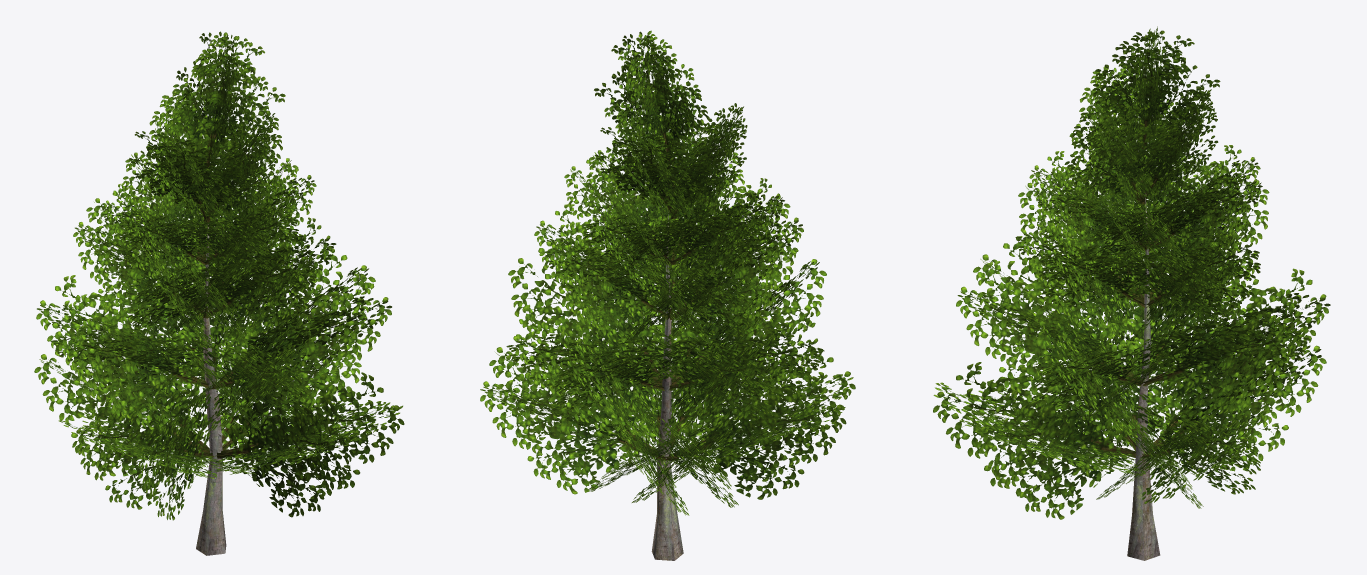
File: tree_f.FBX
3 views of the same model, side by side, from view 1: azimuth 30°, elevation 25°; view 2: azimuth 150°, elevation 25°; view 3: azimuth 270°, elevation 25° (orthographic). The views are drawn at different scales.
Visible parts, largest first — view 1: tree_f; view 2: tree_f; view 3: tree_f.
Part boxes in pixels (bbox=[...]): tree_f: bbox=[34, 31, 404, 555]; tree_f: bbox=[480, 30, 855, 560]; tree_f: bbox=[933, 26, 1330, 560].
Bounding box in the file's own units: 9.62 × 13.6 × 9.99.
2 materials, 2 textured.
